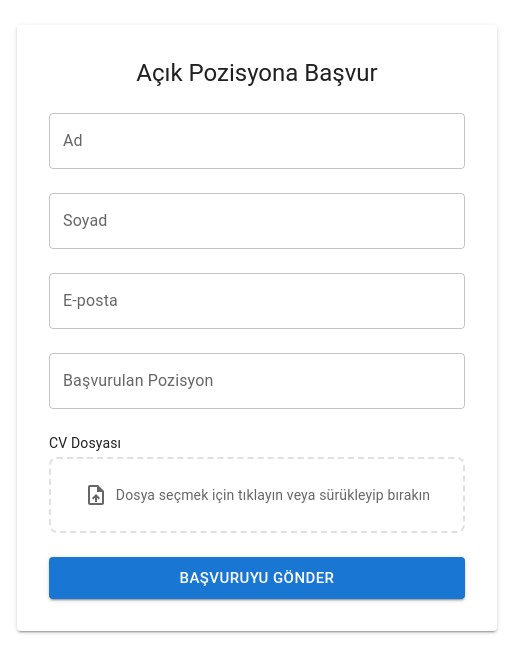
Test case: CareersApplyPage › CV seçilmeden submit edilince validasyon hatasını gösterir
Type "Zeynep" into the field labelled "Ad" at (257, 141), box x1=49 y1=113 x2=465 y2=169
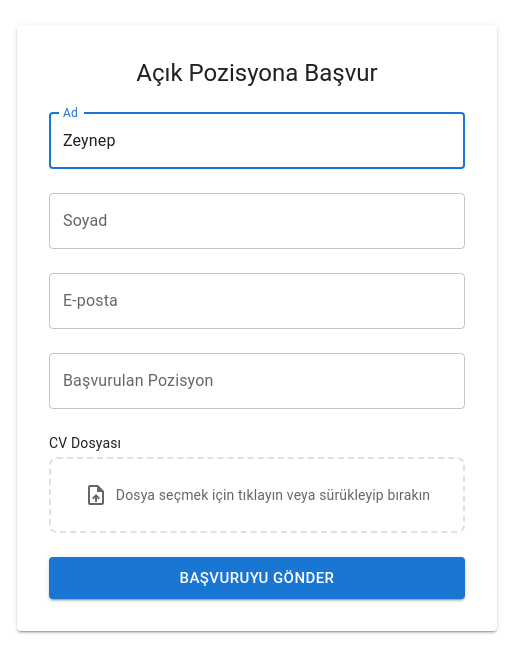
Type "Kaya" into the field labelled "Soyad" at (257, 221), box x1=49 y1=193 x2=465 y2=249
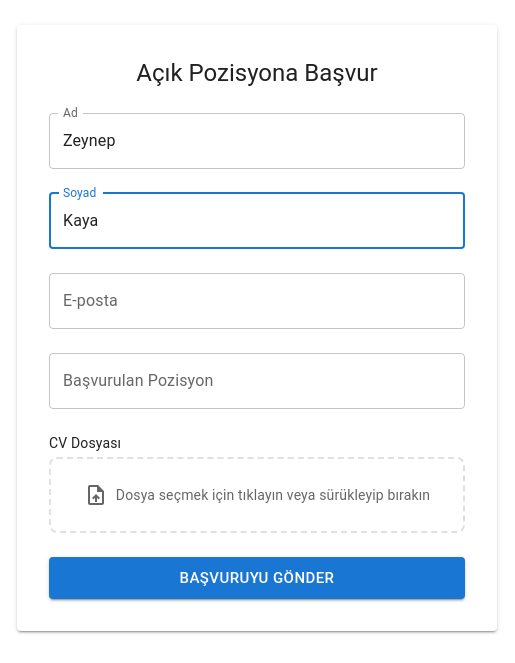
Type "zeynep@ornek.com" into the field labelled "E-posta" at (257, 301), box x1=49 y1=273 x2=465 y2=329
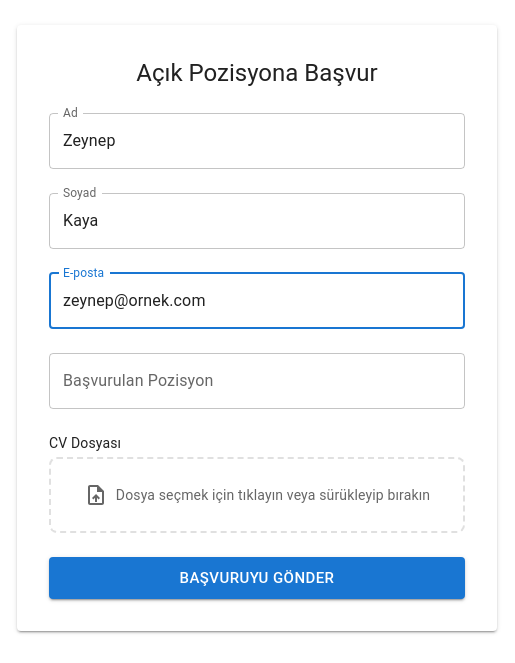
Type "Backend Geliştirici" into the field labelled "Başvurulan Pozisyon" at (257, 381), box x1=49 y1=353 x2=465 y2=409
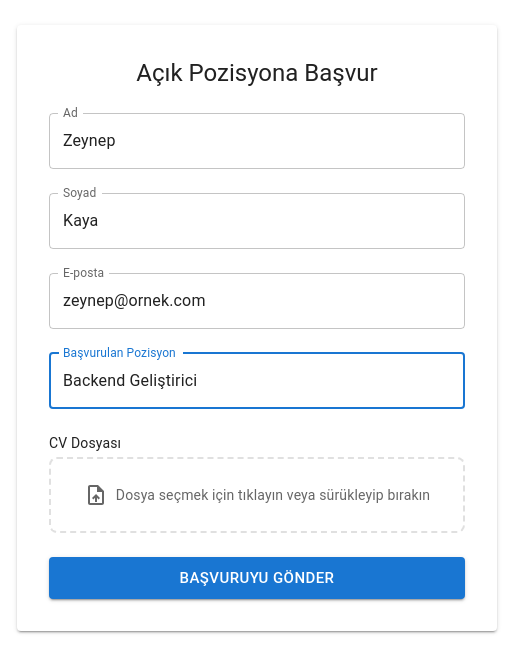
Click the button "Başvuruyu Gönder" at (257, 578), box x1=49 y1=557 x2=465 y2=599
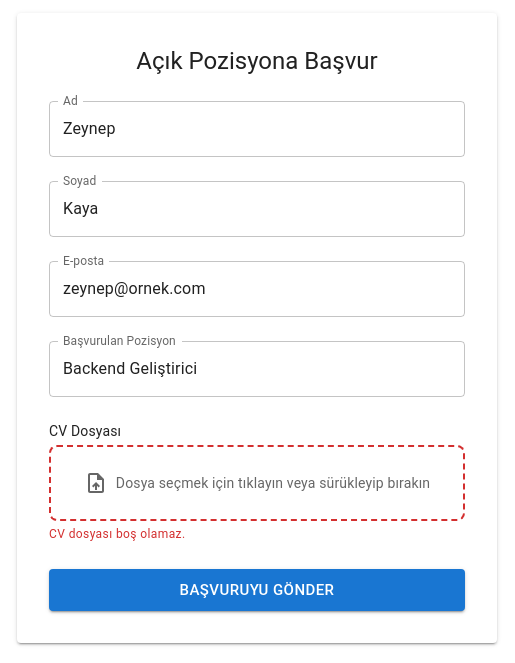
Check: the text "CV dosyası boş olamaz." is shown, box x1=49 y1=527 x2=186 y2=541
